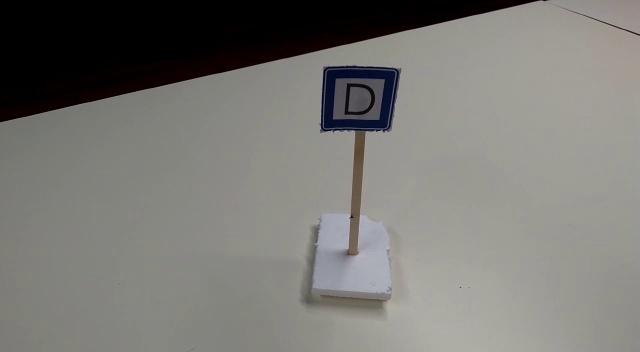durak: (322, 65, 390, 132)
